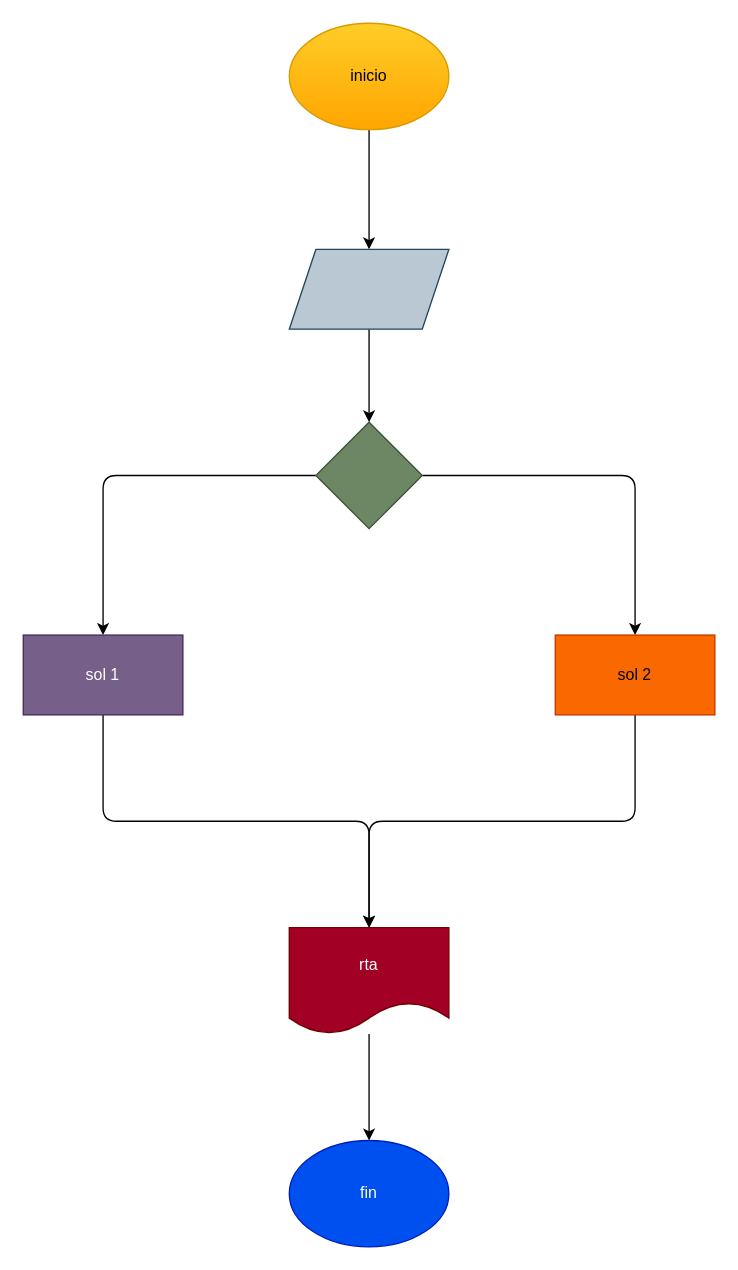
This 738x1270 diagram has some shape labels left out. The centre of each missing label's shape, as x and y in pixels:
"a b c" belongs at point 368,288.
"d = b ** 2 - 4 * a * c" belongs at point 368,475.
